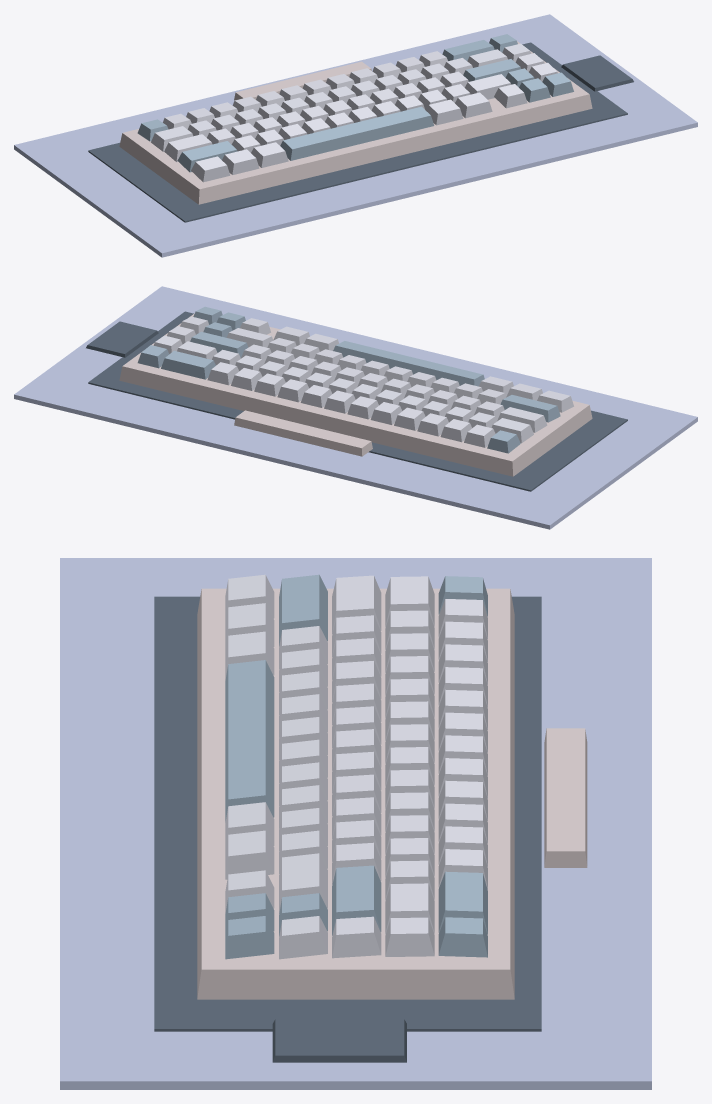
Rendered from keyboard_65_70ac12ad.glb.
The picture shows the model from 3 angles, top to bottom: view 1: azimuth 30°, elevation 25°; view 2: azimuth 150°, elevation 25°; view 3: azimuth 270°, elevation 25°; orthographic projection. The views are drawn at different scales.
Visible parts, largest first — view 1: desk, keyboard case, deskmat, key 62, mouse pad side, monitor stand, key 45, key 43, key 59, key 60, key 56, key 61 (+10 smaller); view 2: desk, keyboard case, deskmat, monitor stand, key 62, mouse pad side, key 14, key 45, key 43, key 31, key 16, key 56 (+20 smaller); view 3: desk, keyboard case, deskmat, key 62, monitor stand, mouse pad side, key 43, key 45, key 14, key 31, key 56, key 64 (+60 smaller).
Boxes of the visible parts, x1,y1,x2,y2 form: desk: (14,14,697,257); keyboard case: (119,41,592,204); deskmat: (88,42,627,222); key 62: (280,106,434,160); mouse pad side: (561,55,633,91); monitor stand: (234,61,371,100); key 45: (177,141,237,172); key 43: (463,59,520,81); key 59: (191,156,230,182); key 60: (222,149,259,174); key 56: (465,74,511,99); key 61: (251,142,288,167); desk: (14,286,697,529); keyboard case: (119,313,592,476); deskmat: (88,311,627,491); monitor stand: (234,410,372,456); key 62: (333,341,484,386); mouse pad side: (86,321,158,357); key 14: (161,350,215,379); key 45: (500,395,560,422); key 43: (190,331,248,357); key 31: (497,407,547,432); key 16: (491,418,533,443); key 56: (226,328,273,347); desk: (60,558,651,1089); keyboard case: (197,588,514,999); deskmat: (154,596,541,1031); key 62: (225,660,274,822); monitor stand: (544,728,587,867); mouse pad side: (272,1019,406,1062); key 43: (332,865,381,935); key 45: (279,574,327,646); key 14: (438,871,487,934); key 31: (332,575,381,633); key 56: (279,853,327,913); key 64: (225,830,274,879).
Bounding box in the file's own units: 23 × 1.54 × 11.
